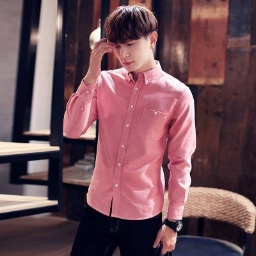face: (104, 4, 161, 72)
